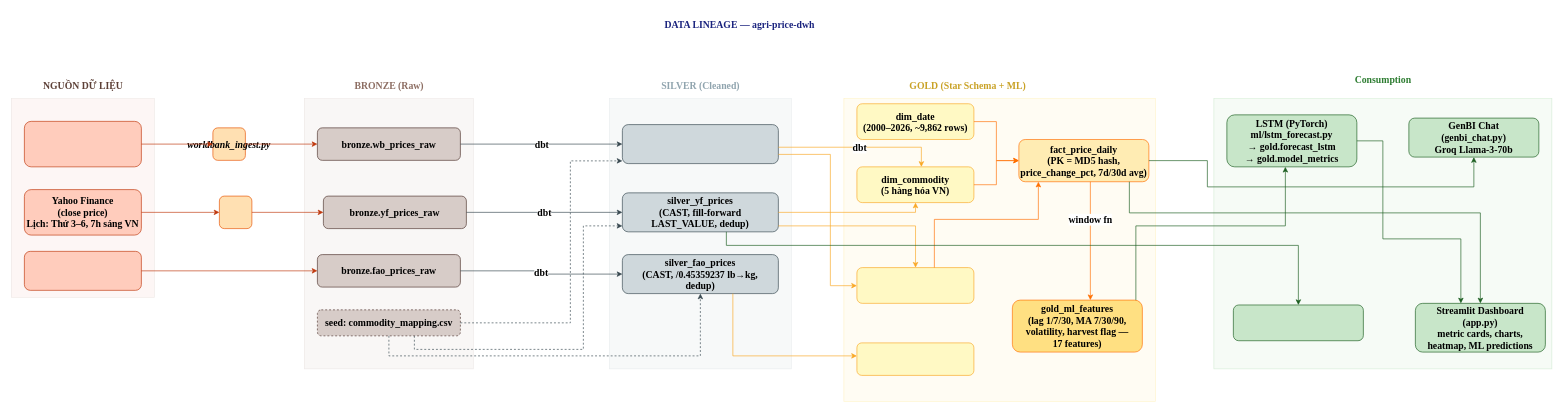
Image size: 1563x413. Some labels were removed from this diagram. Each missing label, with the centre of its shape:
"daily_yf_alert_ingest.py" belongs at point (235, 212).
"dim_region (union WB + YF)" belongs at point (915, 285).
"Email Alerts (smtplib) ngưỡng biến động giá" belongs at point (1298, 322).
"FAO HuggingFace Lịch: thủ công / khi cần" belongs at point (82, 270).
"gold_monthly_combined" belongs at point (915, 358).
"silver_wb_prices (CAST, /1000 ton→kg, dedup ROW_NUMBER)" belongs at point (700, 144).
"World Bank API (Pink Sheet) Lịch: ngày 1 / tháng" belongs at point (82, 144).
